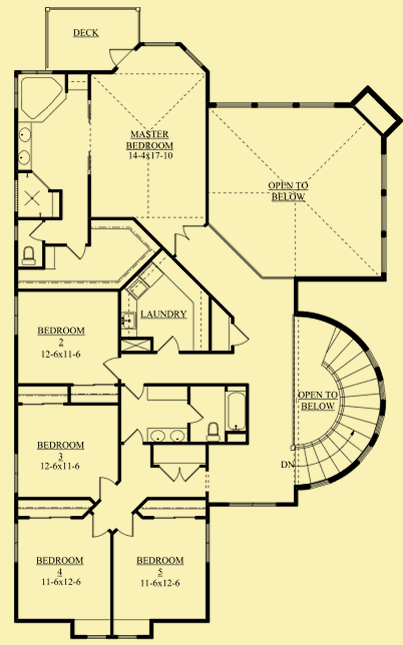door: (169, 221, 207, 258), (147, 461, 203, 486), (225, 324, 256, 354), (88, 508, 109, 543), (94, 472, 119, 500), (118, 376, 146, 400), (152, 333, 181, 355), (99, 354, 121, 381), (106, 47, 133, 69), (66, 237, 89, 260), (26, 220, 47, 244), (122, 429, 146, 448), (186, 400, 205, 424)
large_sink: (15, 245, 41, 270), (201, 419, 222, 444)
small_sink: (16, 120, 37, 172), (146, 425, 188, 444)
stairs: (276, 328, 384, 490)
tub: (226, 387, 248, 433)
